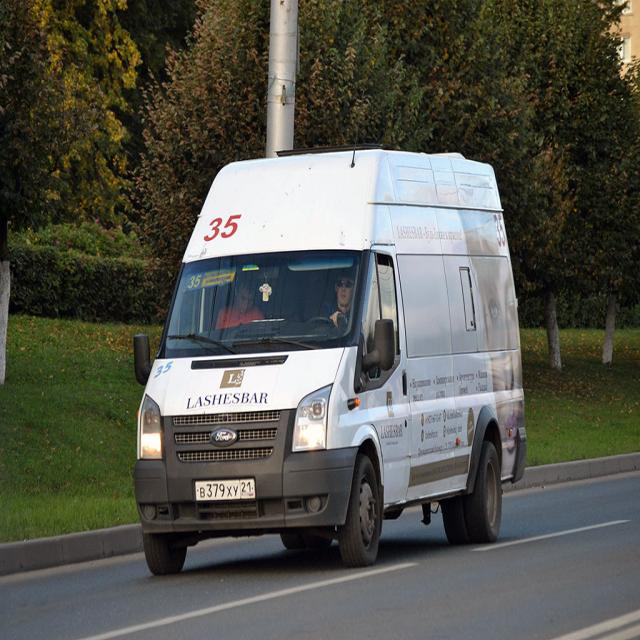number-of-bus: (204, 209, 244, 244), (189, 273, 204, 294)
